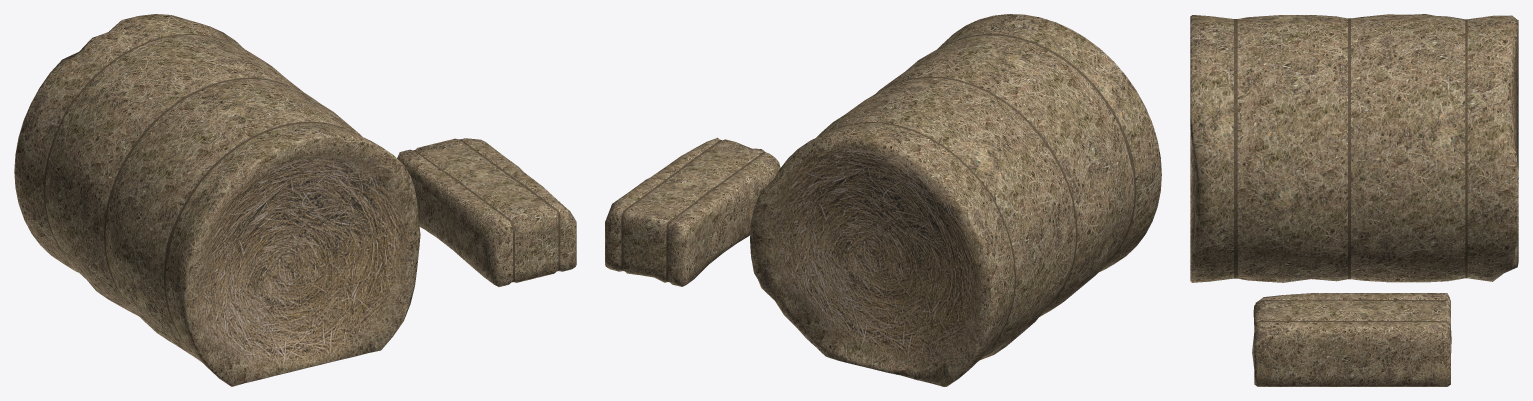
Rendered from HayBales.obj.
The picture shows the model from 3 angles, left to right: view 1: azimuth 30°, elevation 25°; view 2: azimuth 150°, elevation 25°; view 3: azimuth 270°, elevation 25°; orthographic projection. The views are drawn at different scales.
Visible parts, largest first — view 1: Cylinder, Cube; view 2: Cylinder, Cube; view 3: Cylinder, Cube.
Part boxes in pixels (left/top/right/bottom): Cylinder: left=14, top=14, right=420, bottom=386; Cube: left=397, top=138, right=576, bottom=286; Cylinder: left=750, top=14, right=1161, bottom=386; Cube: left=605, top=137, right=780, bottom=286; Cylinder: left=1190, top=14, right=1518, bottom=282; Cube: left=1252, top=293, right=1451, bottom=386.
Bounding box in the file's own units: 3.55 × 1.81 × 2.42.
Materials: 1 (1 with a texture image).
